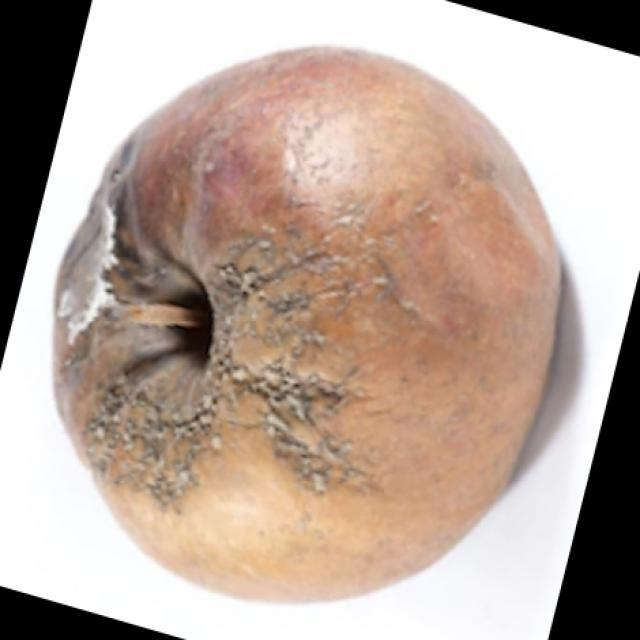Rotten: (52, 39, 568, 584)
